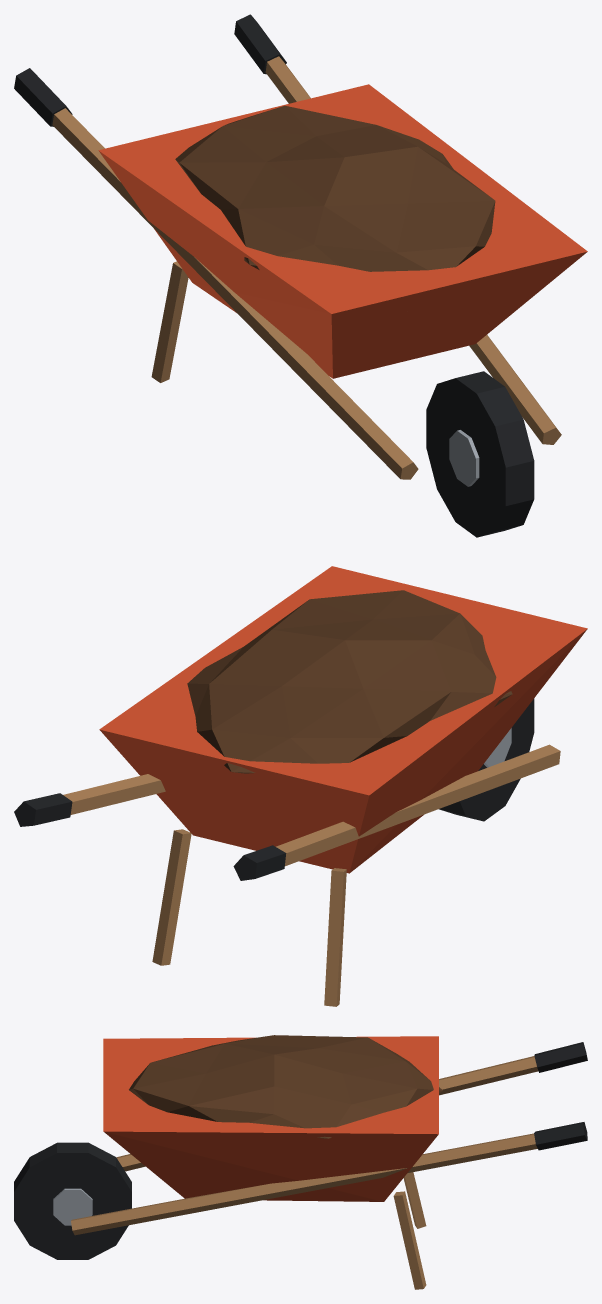
File: prop_wheelbarrow.glb
The picture shows the model from 3 angles, top to bottom: view 1: azimuth 30°, elevation 25°; view 2: azimuth 150°, elevation 25°; view 3: azimuth 270°, elevation 25°; orthographic projection. The views are drawn at different scales.
Parts seen in each view (by area): view 1: prop_wheelbarrow; view 2: prop_wheelbarrow; view 3: prop_wheelbarrow.
Boxes of the visible parts, box(x1,y1,x2,y2) form: prop_wheelbarrow: box(14, 14, 587, 537); prop_wheelbarrow: box(14, 566, 587, 1006); prop_wheelbarrow: box(14, 1035, 587, 1289).
Size of the model in its own units: 0.76 by 0.7342 by 1.88.
